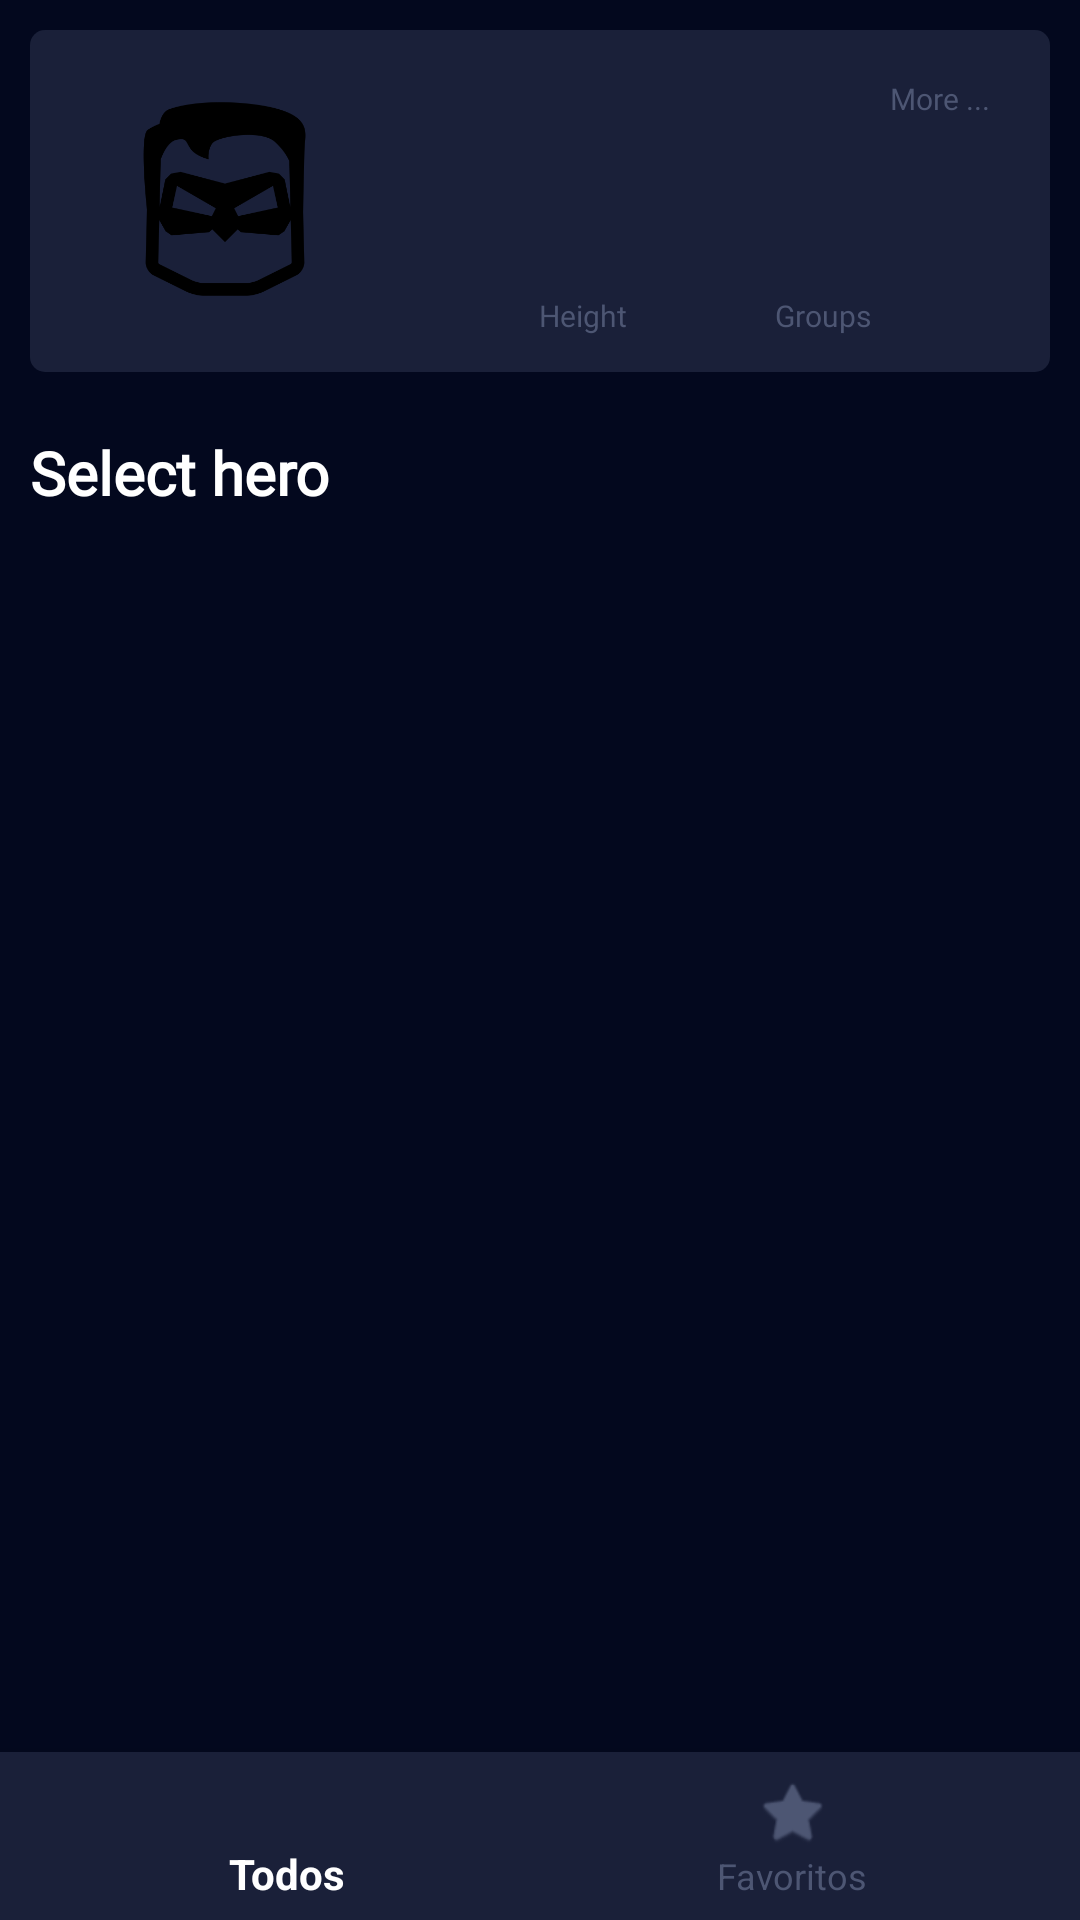

Icons on this 1080 × 1920 Android screen, each with the point to tap as (x,y):
superhero: (224,199)
